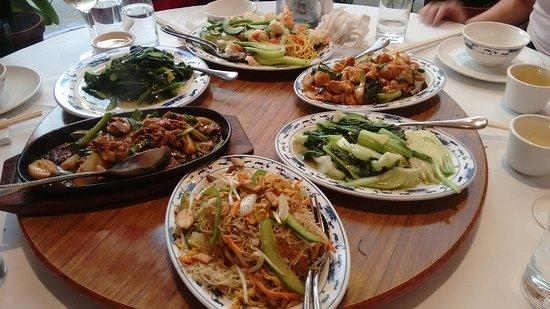Braised Crucian Carp: (164, 155, 346, 308), (7, 105, 236, 205), (276, 111, 471, 201), (54, 45, 207, 119), (292, 55, 441, 112), (183, 21, 331, 72)
